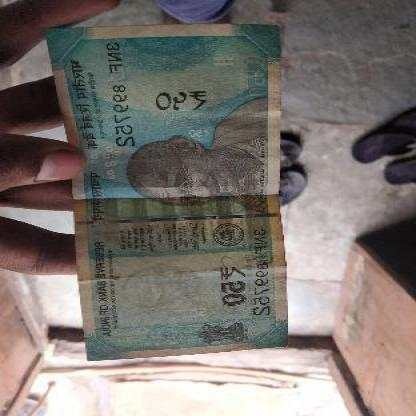New50Front: (63, 28, 288, 353)
